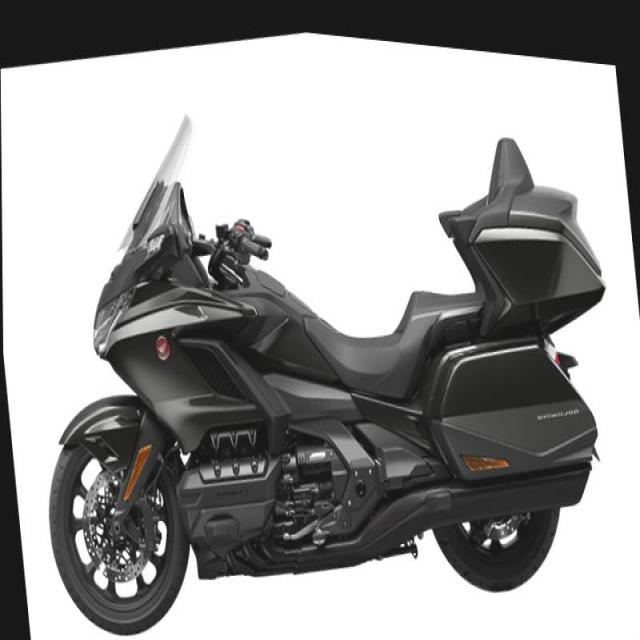Gold Wing: (8, 0, 634, 639)
